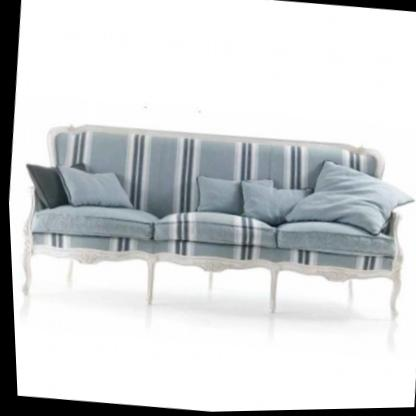Sofa: (6, 109, 416, 339)
